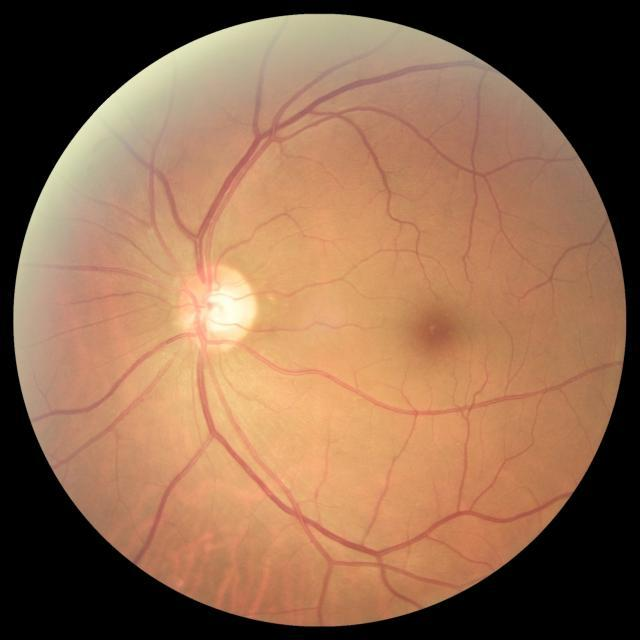OC: (199, 286, 240, 331)
OD: (175, 263, 259, 354)
